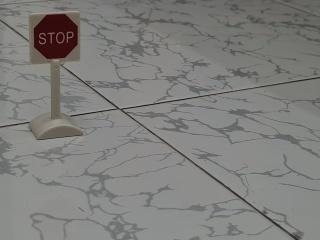stop: (25, 8, 86, 72)
